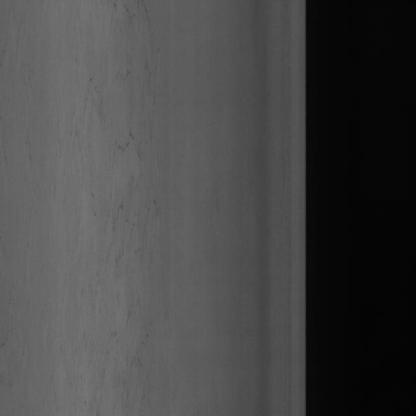silk_spot: (72, 73, 162, 320)
